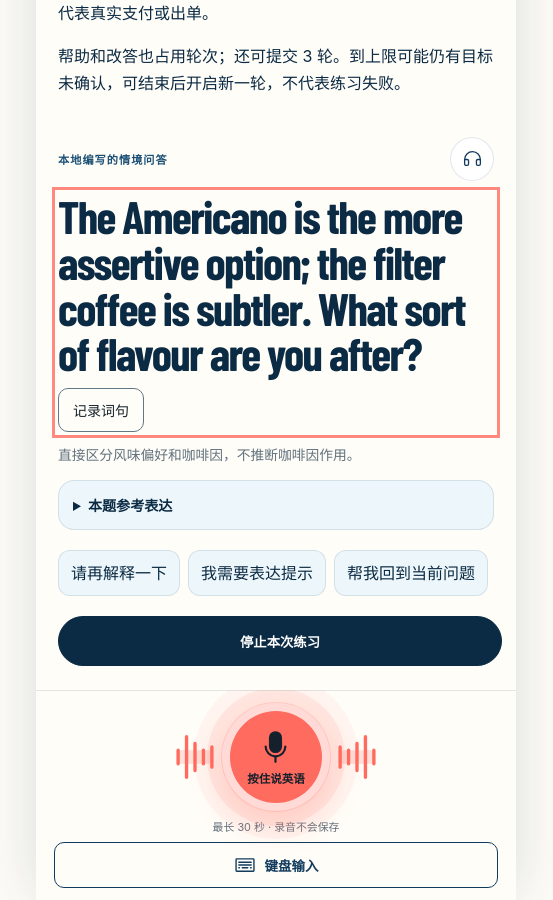
graded practice stage › shows full selected material before its exact question and only the current pair
(page scrolled)
Expected: the text "The Americano is the more assertive option; the filter coffee is subtler. What sort of flavour are you after?" is shown, [58,188,472,380]
Click the heading "本题参考表达" at (130, 506), box [88,498,172,514]
(page scrolled)
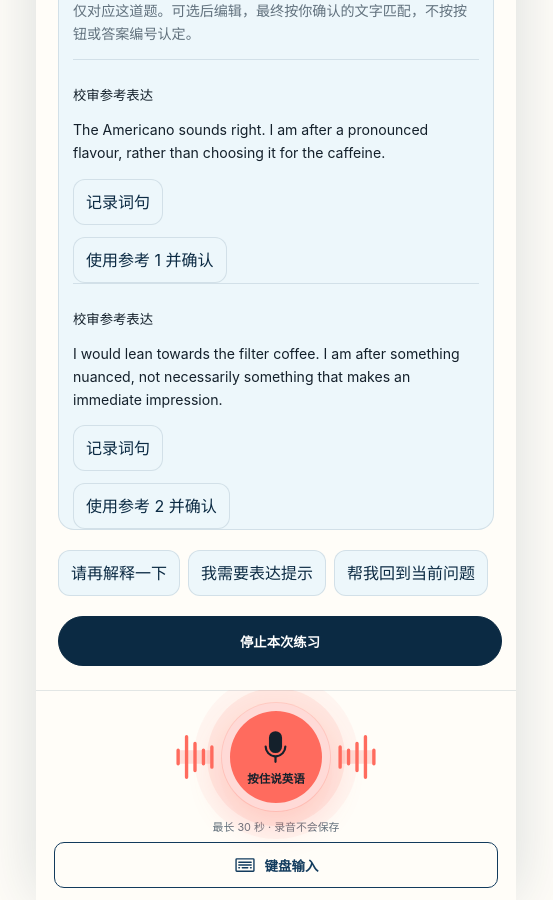
Expected: the button "停止本次练习" is enabled, [58,616,502,666]
Now the text "The Americano sounds right. I am after a pronounced flavour, rather than choosing it for the caffeine." is shown, box [73,121,432,161]
Now the text "I would lean towards the filter coffee. I am after something nuanced, not necessarily something that makes an immediate " is shown, box [73,345,464,408]
